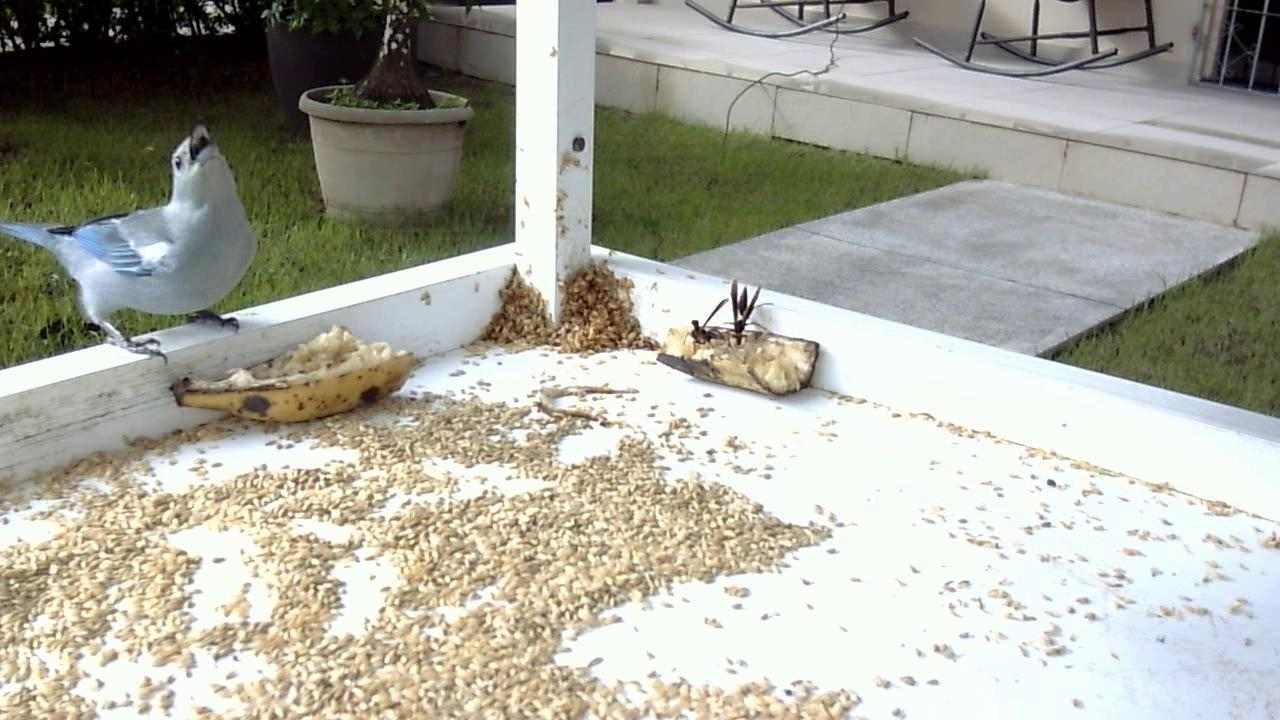sanhaco_da_amazonia: (1, 124, 258, 374)
